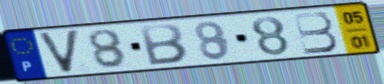8: (249, 14, 292, 58), (85, 28, 128, 70), (192, 20, 232, 62)
B: (290, 10, 341, 56), (138, 22, 190, 67)
V: (35, 28, 82, 76)
